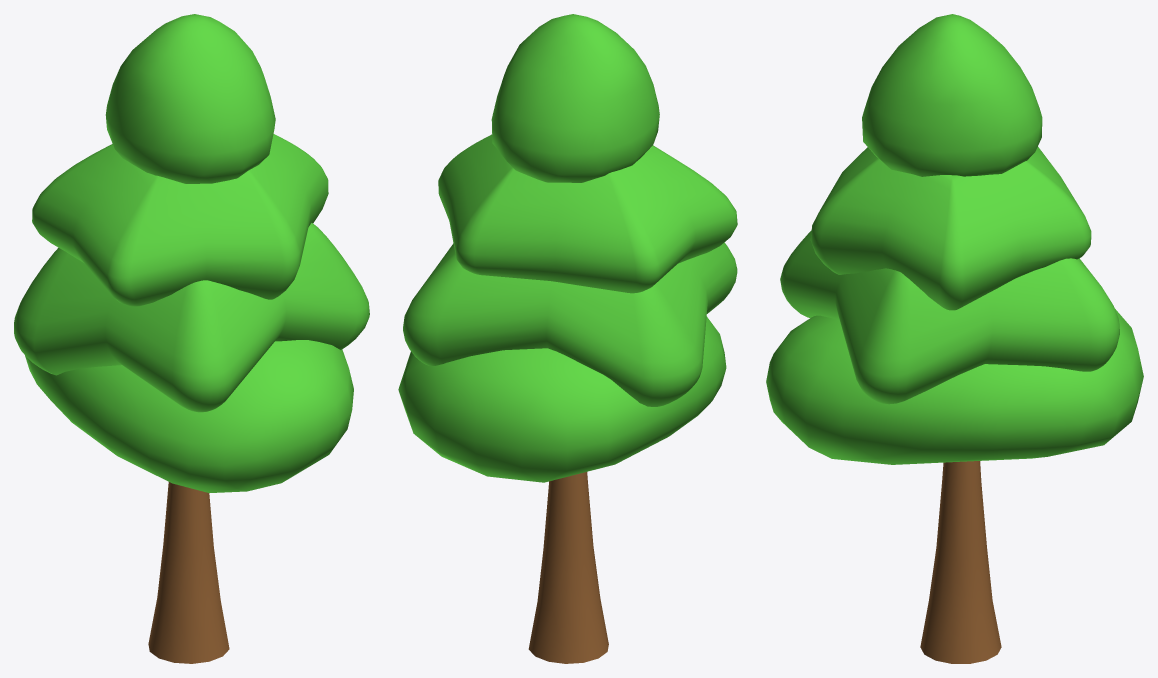
The model's file is DecorationTree_1.gltf.
The picture shows the model from 3 angles, left to right: view 1: azimuth 30°, elevation 25°; view 2: azimuth 150°, elevation 25°; view 3: azimuth 270°, elevation 25°; orthographic projection.
Parts seen in each view (by area): view 1: Tree3_1; view 2: Tree3_1; view 3: Tree3_1.
Boxes of the visible parts, <box> form: Tree3_1: <box>14,14,369,663</box>; Tree3_1: <box>398,14,737,663</box>; Tree3_1: <box>766,14,1143,663</box>.
Size of the model in its own units: 6.61 by 13.86 by 7.56.
1 material, 1 textured.
